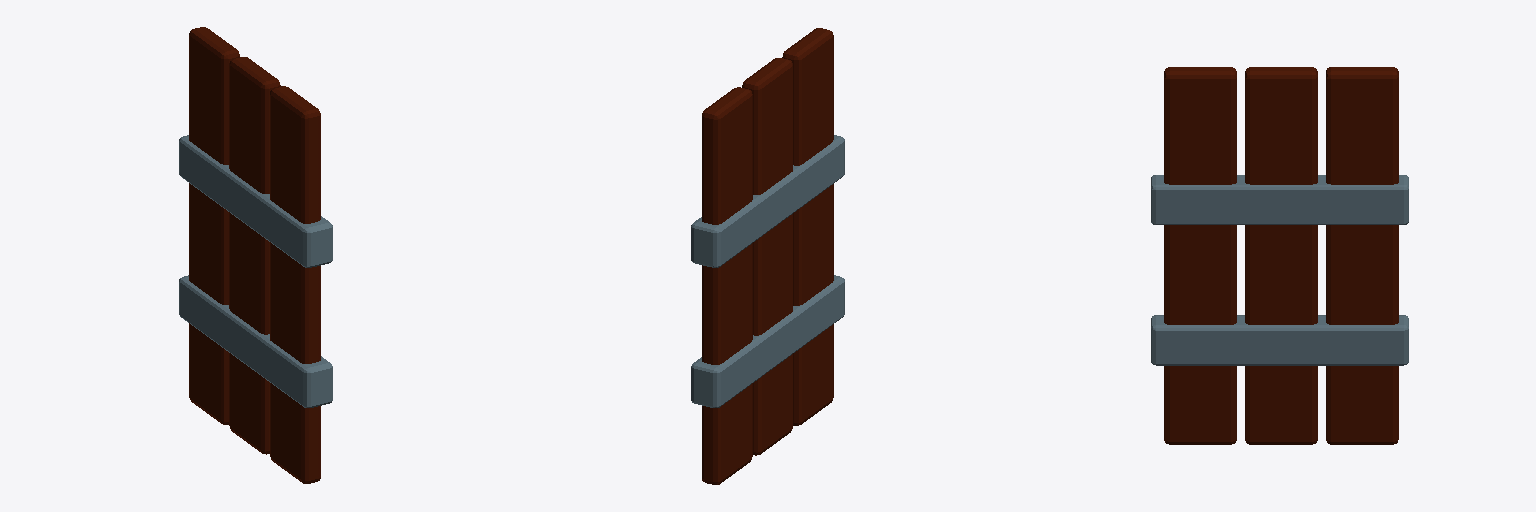
Rendered from door_wood.obj.
3 renders of one model, left to right at view 1: azimuth 30°, elevation 25°; view 2: azimuth 150°, elevation 25°; view 3: azimuth 270°, elevation 25°, orthographic.
Parts seen in each view (by area): view 1: door_wood; view 2: door_wood; view 3: door_wood.
Boxes of the visible parts, x1=… form: door_wood: x1=179, y1=27, x2=332, y2=483; door_wood: x1=691, y1=28, x2=844, y2=484; door_wood: x1=1151, y1=67, x2=1408, y2=444.
Size of the model in its own units: 0.662 by 8.06 by 5.07.